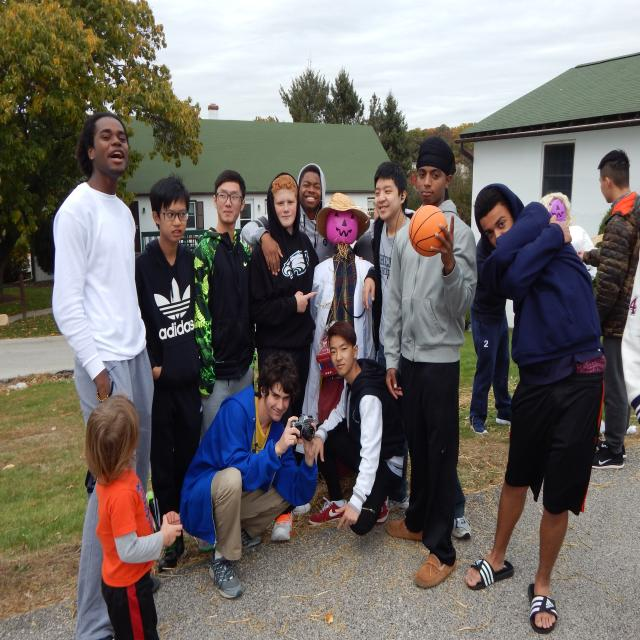body: (459, 181, 609, 635), (48, 106, 157, 640), (378, 133, 480, 591), (360, 160, 473, 540), (177, 348, 321, 604), (132, 174, 205, 574), (304, 190, 387, 505), (85, 392, 182, 640), (571, 145, 640, 472), (306, 318, 408, 538), (190, 169, 258, 447), (245, 171, 320, 408), (239, 163, 374, 278), (468, 233, 514, 437), (530, 185, 604, 289)
